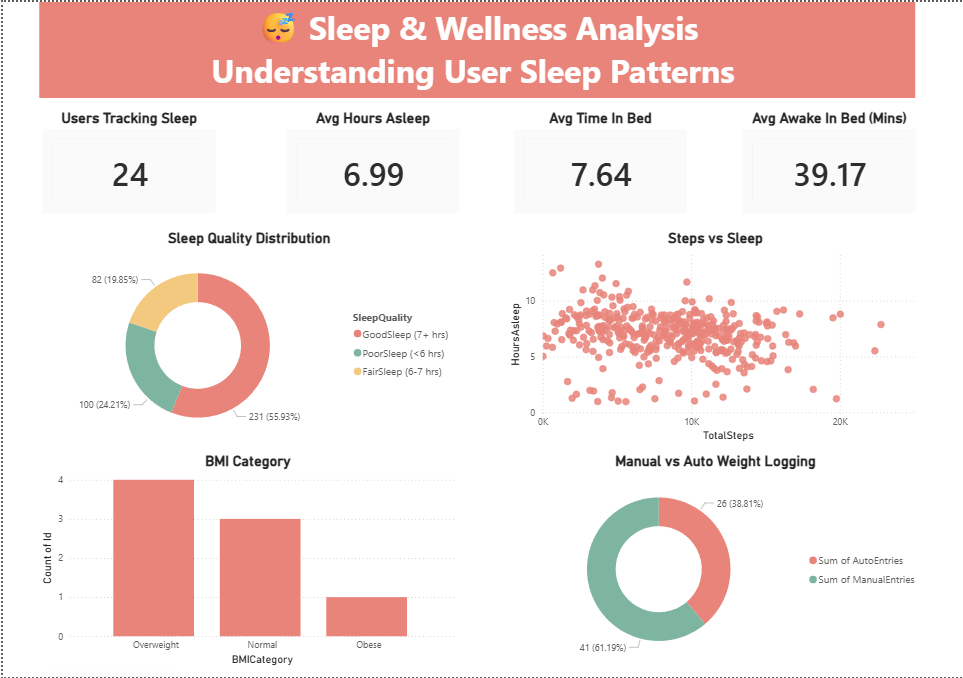

The dashboard page shown, as its layout file describes it:
{"tool":"powerbi","page":{"name":"Sleep & Wellness","canvas":[1280,900],"ordinal":1},"visuals":[{"type":"cardVisual","title":"Avg Hours Asleep","fields":{"Data":["Avg(analysis_sleep.HoursAsleep)"]},"box":[373.4,144,240,144],"z":0},{"type":"cardVisual","title":"Avg Awake In Bed (Mins)","fields":{"Data":["Avg(analysis_sleep.MinutesAwakeInBed)"]},"box":[981.4,144,240,144],"z":1},{"type":"cardVisual","title":"Users Tracking Sleep","fields":{"Data":["Count(analysis_sleep.Id)"]},"box":[48,144,240,144],"z":2},{"type":"cardVisual","title":"Avg Time In Bed ","fields":{"Data":["analysis_activity_sleep.Avg Hours In Bed"]},"box":[677.4,144,240,144],"z":3},{"type":"donutChart","title":"Sleep Quality Distribution","fields":{"Category":["analysis_sleep.SleepQuality"],"Y":["CountNonNull(analysis_sleep.Id)"]},"box":[48,304,560,288],"z":4},{"type":"scatterChart","title":"Steps vs Sleep","fields":{"Y":["analysis_activity_sleep.HoursAsleep"],"X":["analysis_activity_sleep.TotalSteps"]},"box":[670.8,302.9,560,288],"z":5},{"type":"clusteredColumnChart","title":"BMI Category","fields":{"Category":["analysis_weight.BMICategory"],"Y":["CountNonNull(analysis_weight.Id)"]},"box":[46.8,600.9,560,288],"z":6},{"type":"donutChart","title":"Manual vs Auto Weight Logging","fields":{"Y":["Sum(analysis_weight.AutoEntries)","Sum(analysis_weight.ManualEntries)"]},"box":[670.8,600.9,560,288],"z":7},{"type":"textbox","box":[48,0,1168,128],"z":8}]}

Visuals, with their boxes in screenshot pixels (x1, y1, x2, y2), scaled from the page's 1280x900 canvas onto the 963x678 screenshot:
"Avg Hours Asleep" cardVisual: [left=281, top=108, right=461, bottom=217]
"Avg Awake In Bed (Mins)" cardVisual: [left=738, top=108, right=919, bottom=217]
"Users Tracking Sleep" cardVisual: [left=36, top=108, right=217, bottom=217]
"Avg Time In Bed " cardVisual: [left=510, top=108, right=690, bottom=217]
"Sleep Quality Distribution" donutChart: [left=36, top=229, right=457, bottom=446]
"Steps vs Sleep" scatterChart: [left=505, top=228, right=926, bottom=445]
"BMI Category" clusteredColumnChart: [left=35, top=453, right=457, bottom=670]
"Manual vs Auto Weight Logging" donutChart: [left=505, top=453, right=926, bottom=670]
textbox: [left=36, top=0, right=915, bottom=96]
